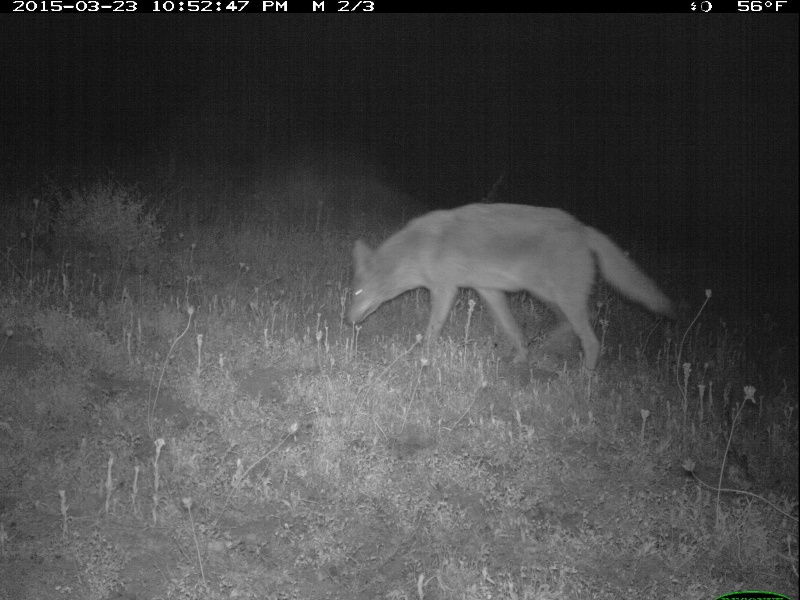coyote: (342, 196, 680, 374)
